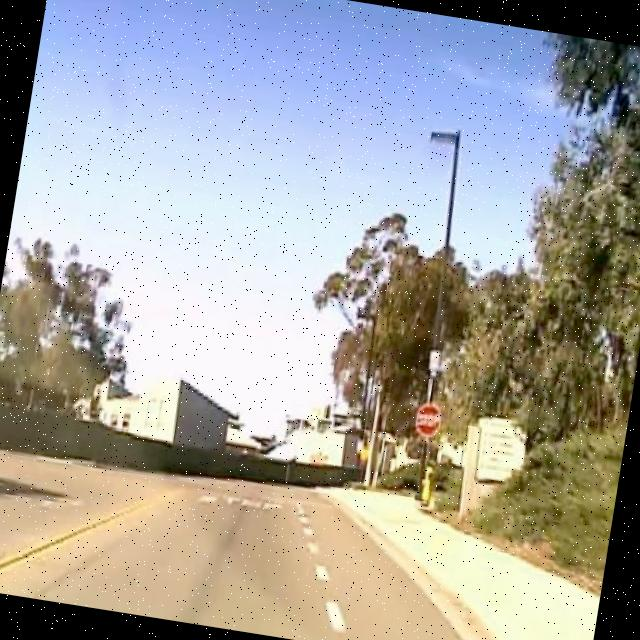Stop: (412, 402, 446, 439)
